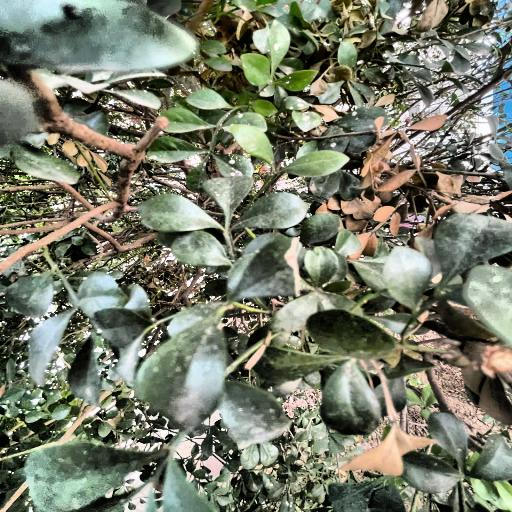la xanh: (124, 160, 406, 435)
